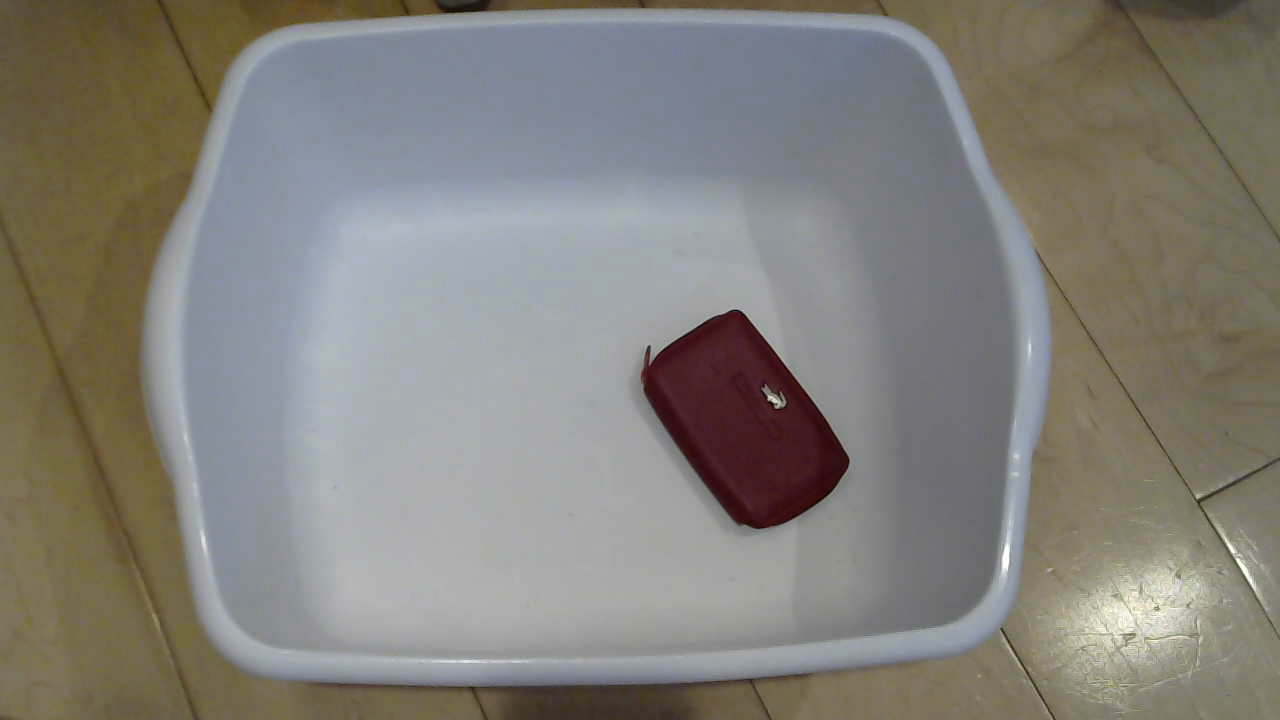wallet: (637, 307, 873, 547)
